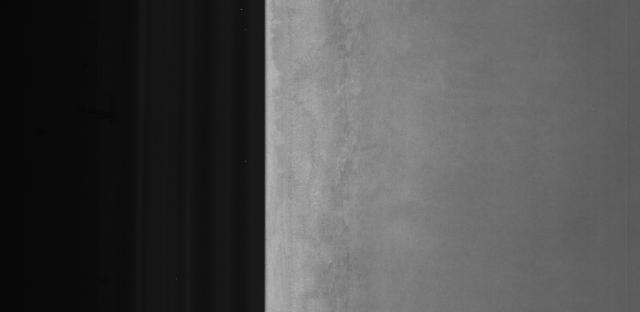silk_spot: (318, 44, 398, 303)
